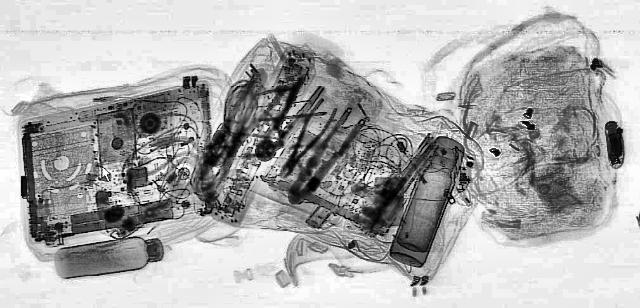Pliers: (270, 106, 376, 208)
